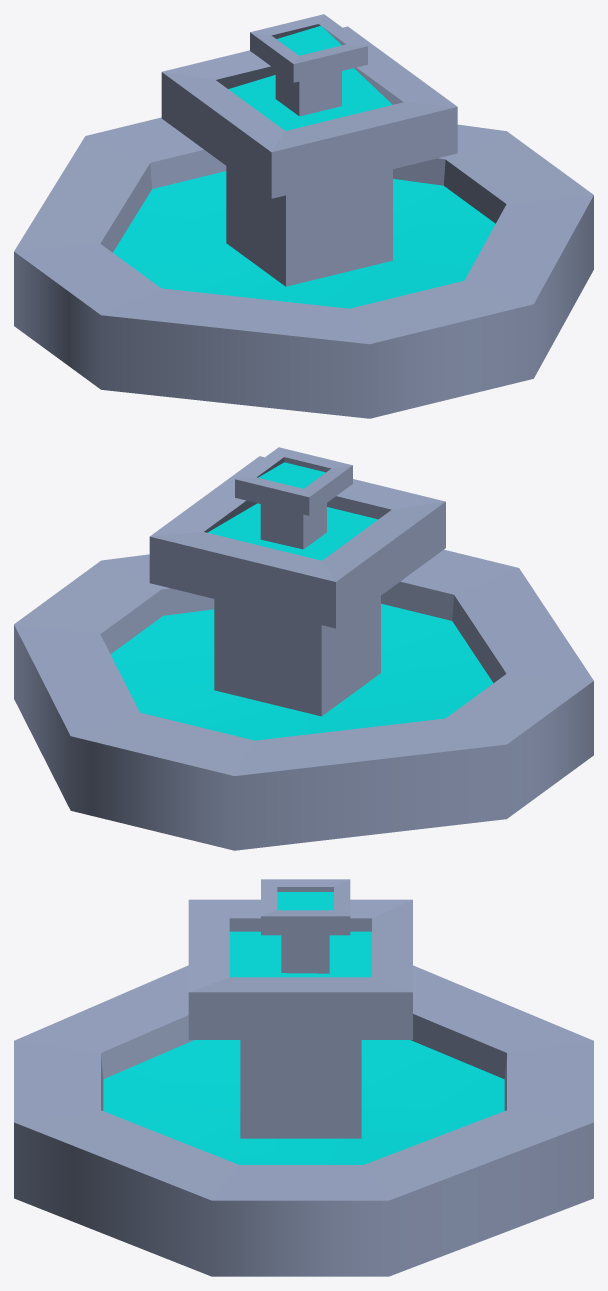
File: Fuente.fbx
3 renders of one model, top to bottom at view 1: azimuth 30°, elevation 25°; view 2: azimuth 150°, elevation 25°; view 3: azimuth 270°, elevation 25°, orthographic.
Parts seen in each view (by area): view 1: Fuente; view 2: Fuente; view 3: Fuente.
Part boxes in pixels (box(x1,y1,x2,y2)): Fuente: box(14, 14, 593, 418); Fuente: box(14, 447, 593, 850); Fuente: box(14, 879, 593, 1276).
Bounding box in the file's own units: 17.3 × 8.55 × 17.3.
